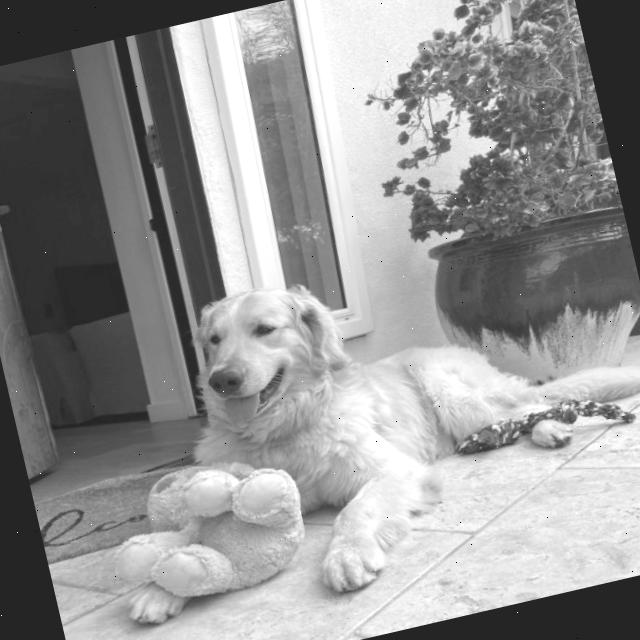golden_retriever_dog: (164, 250, 362, 447)
